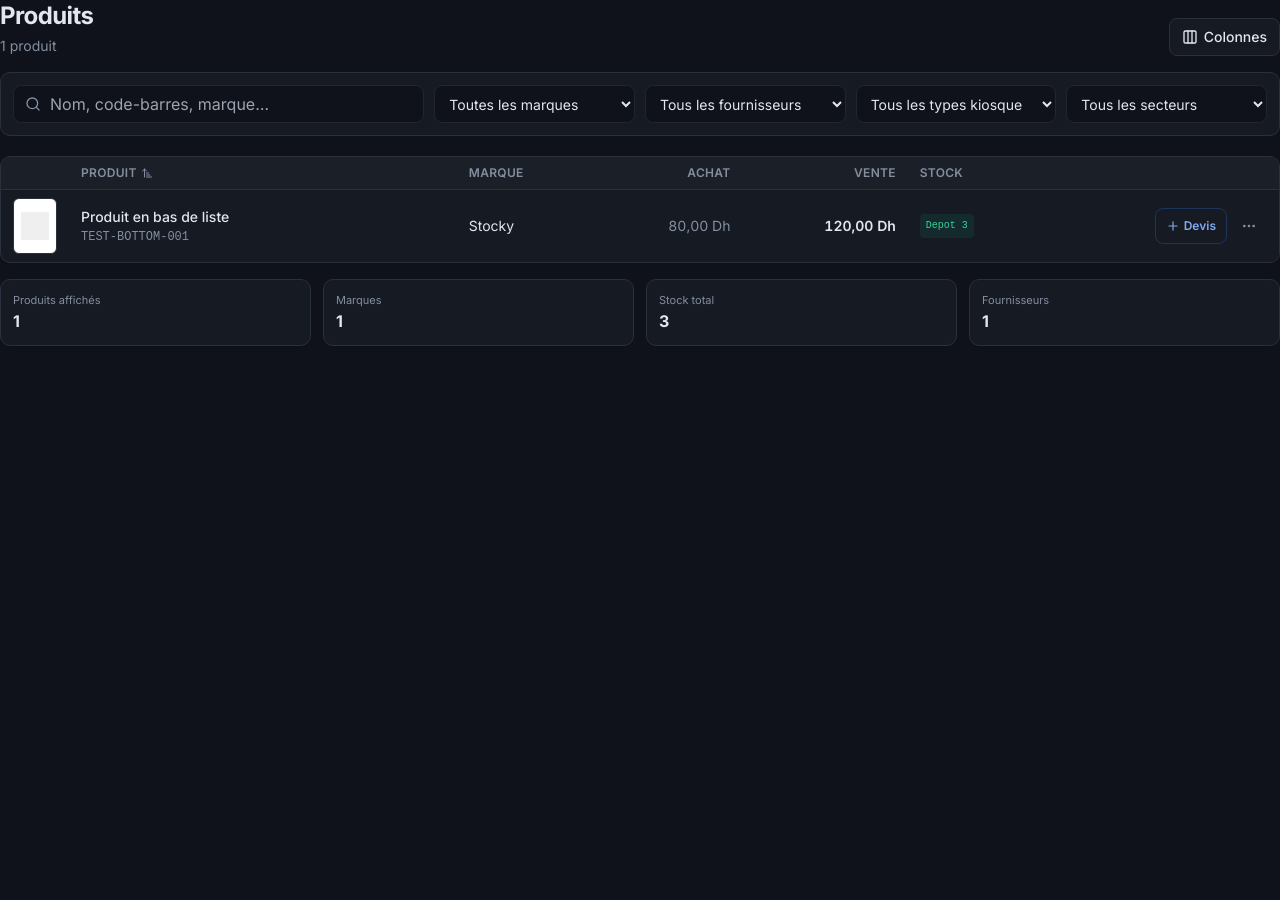
Test: ProductsPage quick view › renders in a body portal and locks the current page scroll
What coordinates should you click on to do the following:
click the button titled "Aperçu rapide"
I would click on:
 (35, 226)
Its box is [13, 198, 57, 254].
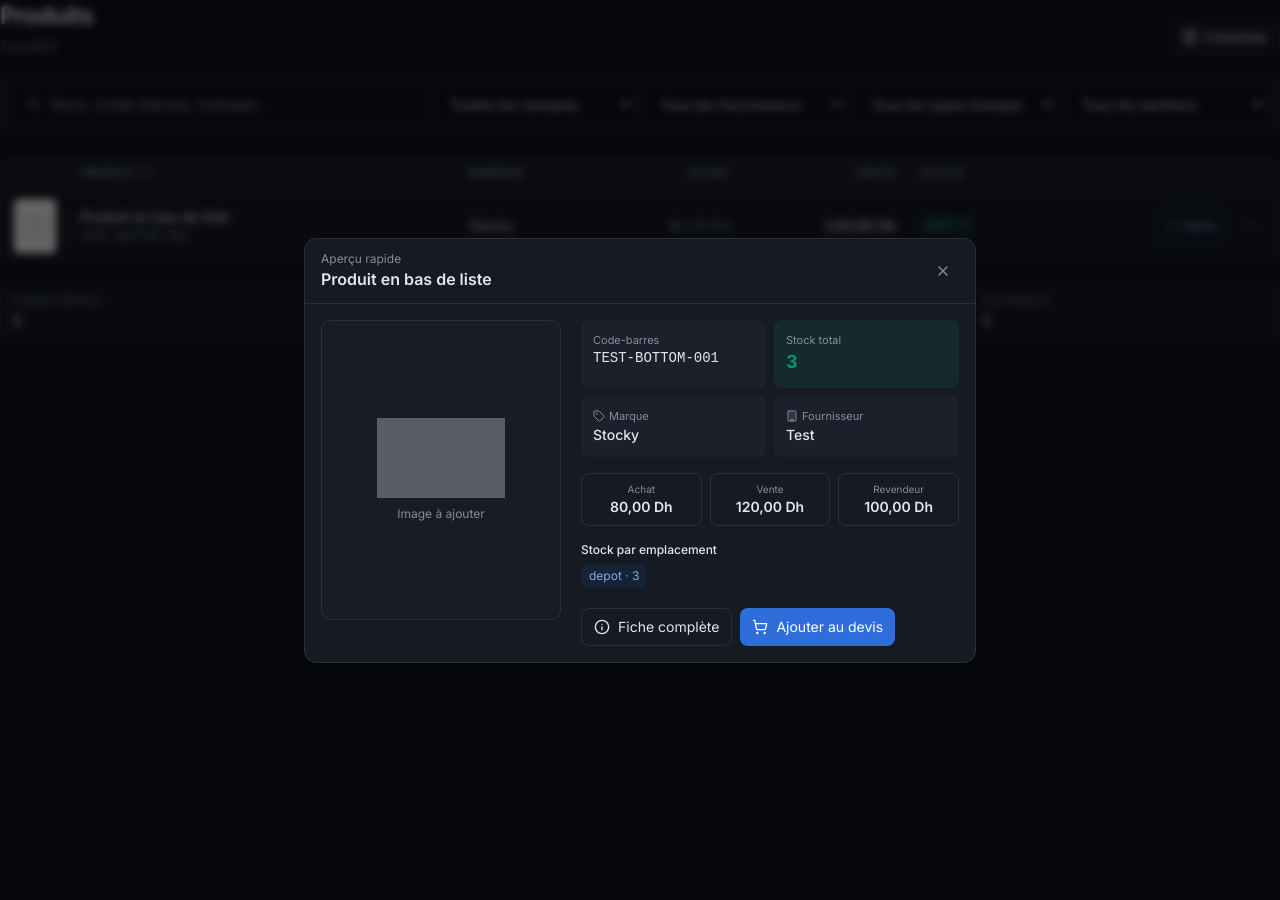
What coordinates should you click on to do the following:
click the button titled "Fermer"
I would click on:
 (943, 270)
Its box is [927, 254, 959, 286].
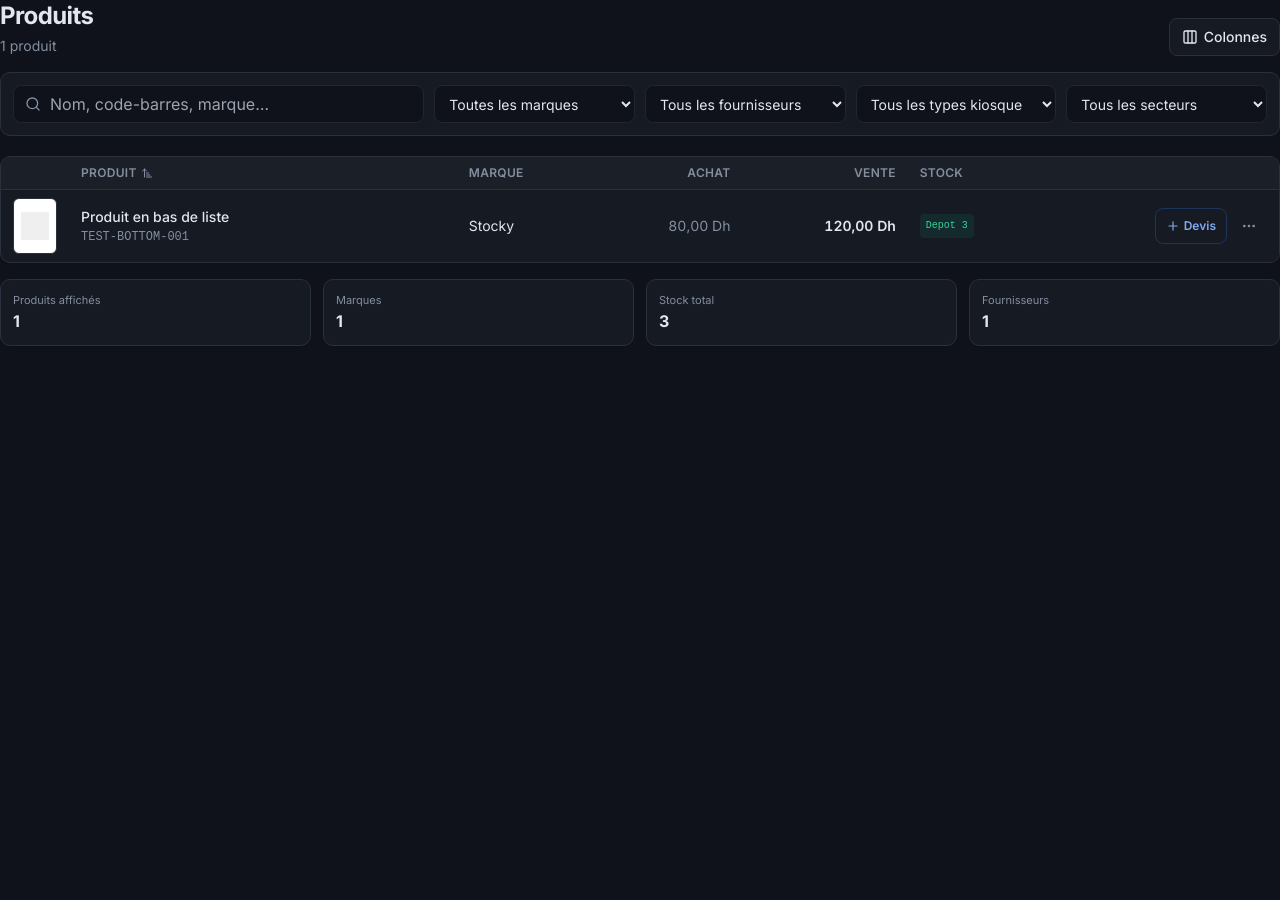
Expected: the dialog is gone
